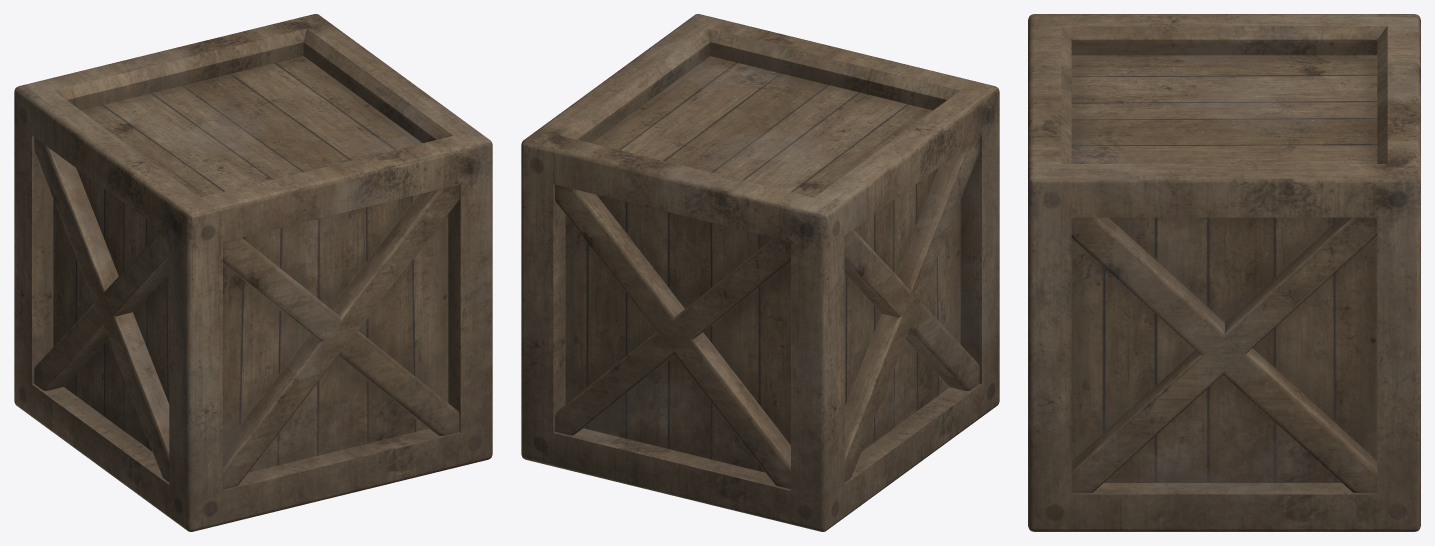
Rendered from wooden_crate.obj.
The picture shows the model from 3 angles, left to right: view 1: azimuth 30°, elevation 25°; view 2: azimuth 150°, elevation 25°; view 3: azimuth 270°, elevation 25°; orthographic projection. The views are drawn at different scales.
Visible parts, largest first — view 1: crate_Cube.004; view 2: crate_Cube.004; view 3: crate_Cube.004.
Boxes of the visible parts, box(x1,y1,x2,y2) form: crate_Cube.004: box(14, 14, 492, 531); crate_Cube.004: box(521, 14, 999, 531); crate_Cube.004: box(1028, 14, 1420, 531).
Size of the model in its own units: 2 by 2 by 2.
1 material, 1 textured.
